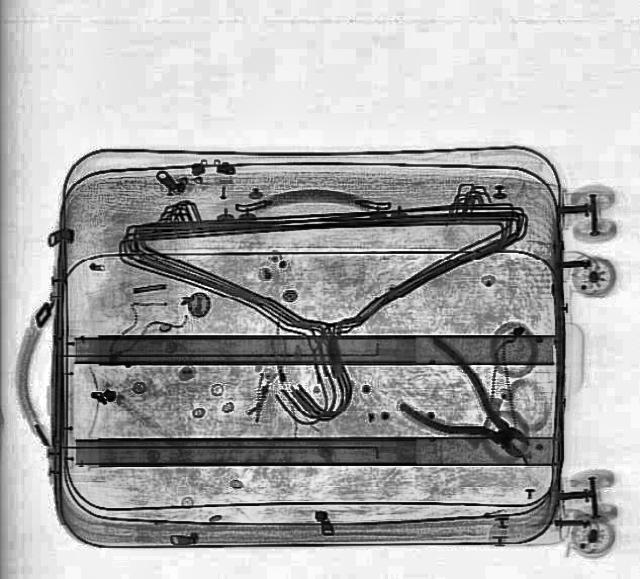Pliers: (372, 333, 558, 481)
